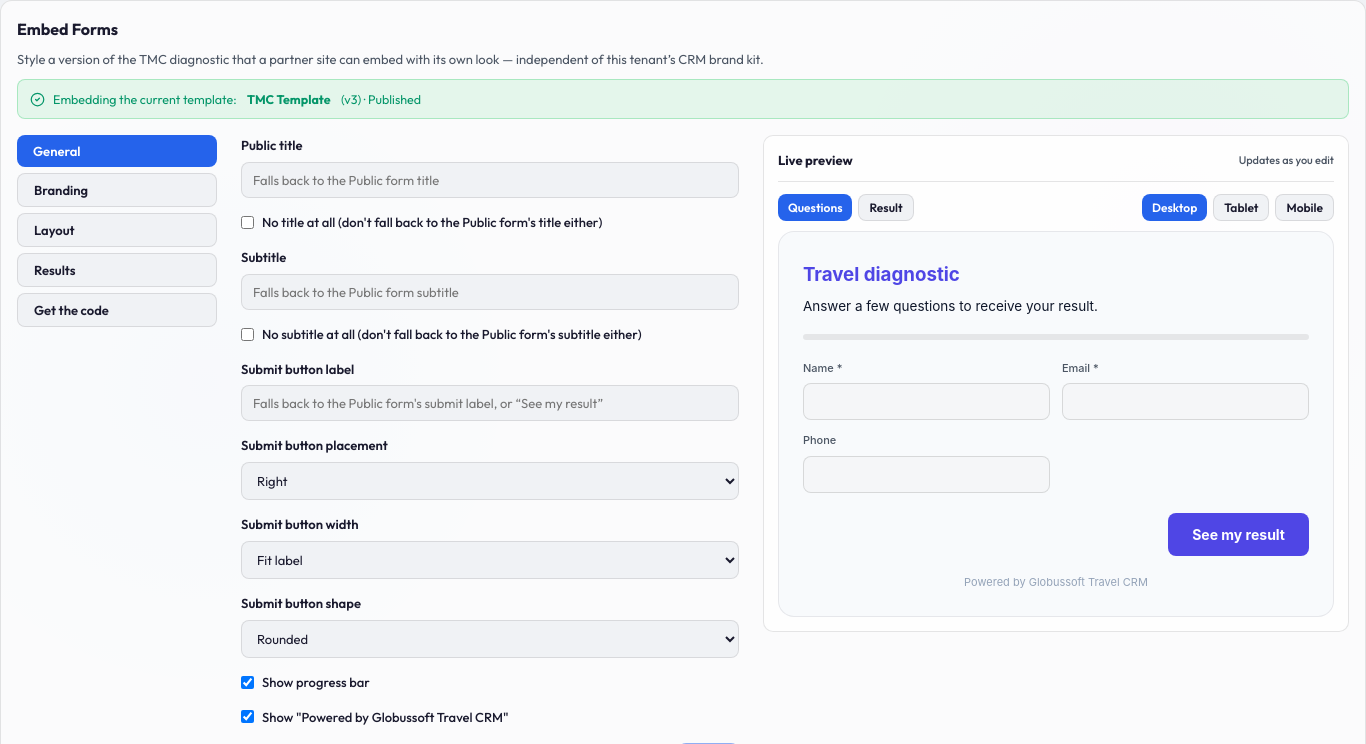
Test: DiagnosticEmbedFormsPanel — branding colors › the Primary color field has a typeable hex text input next to the swatch
The width and height of the screenshot is (1366, 744).
Click the button "Branding". click: (117, 190)
box: [17, 173, 217, 207]
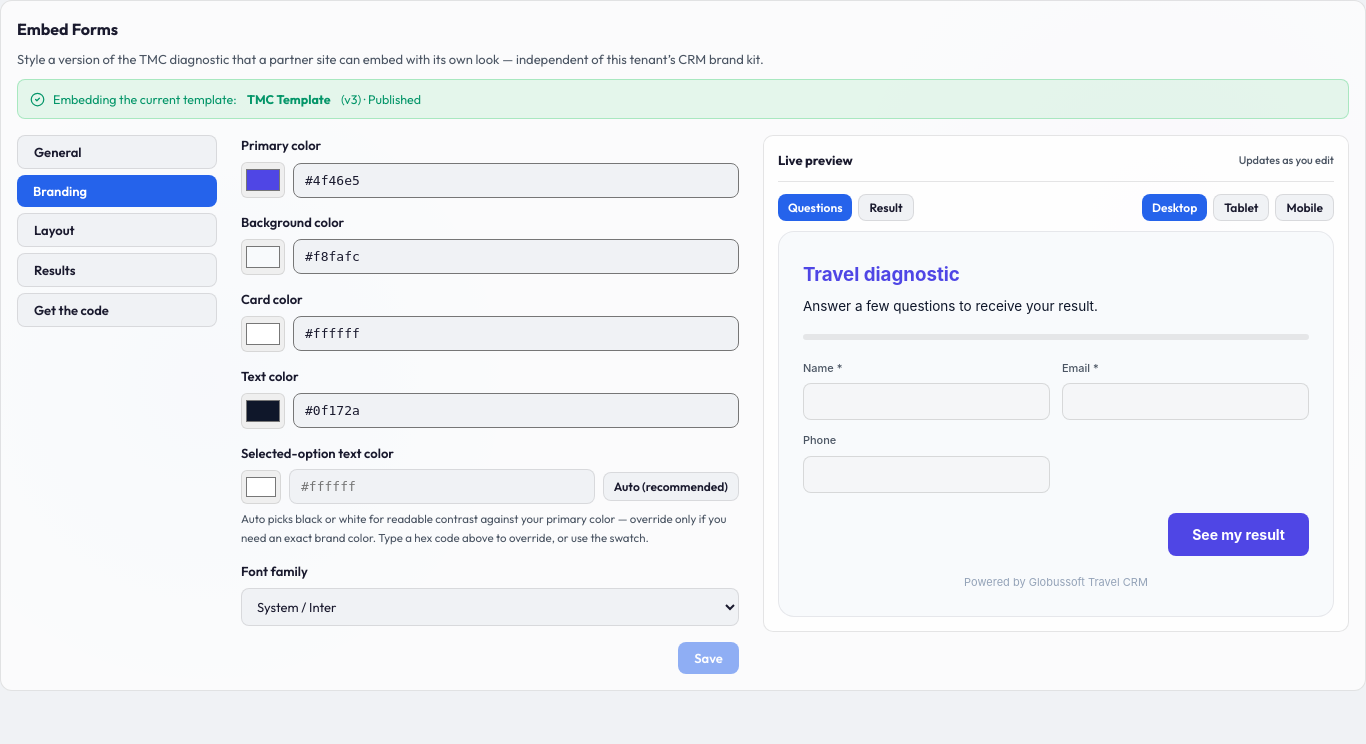
Result: the 1st field holds "#4f46e5"
Type "#00ff00" into the 1st field. click: (516, 180)
box: [293, 163, 739, 198]
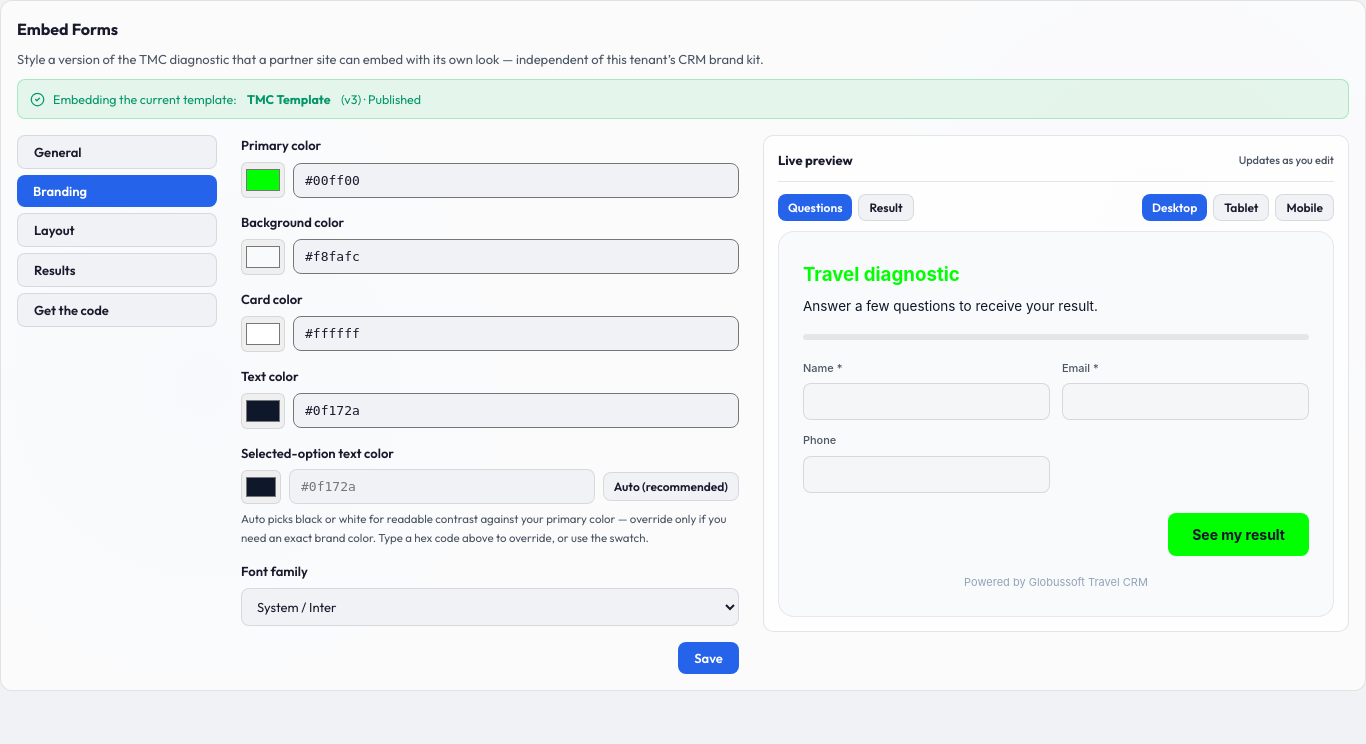
Result: the button "Save" is enabled at [678, 642, 739, 674]
